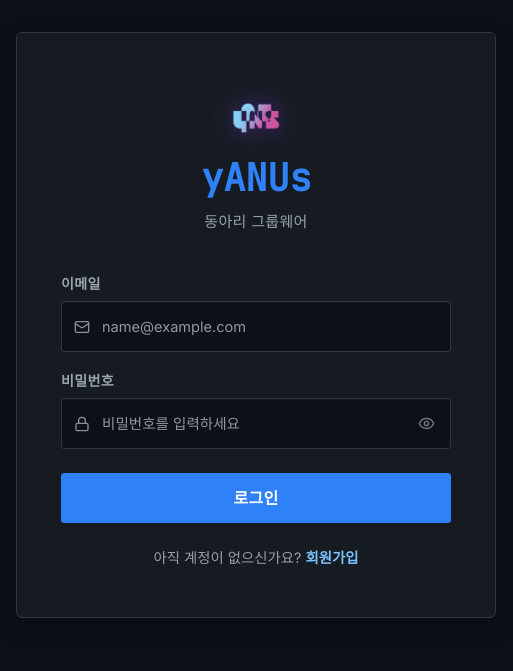
Test: Login 페이지 › 이메일이 비어있으면 유효성 에러를 표시한다
Click the button "로그인".
click(256, 498)  # box [61, 473, 451, 523]
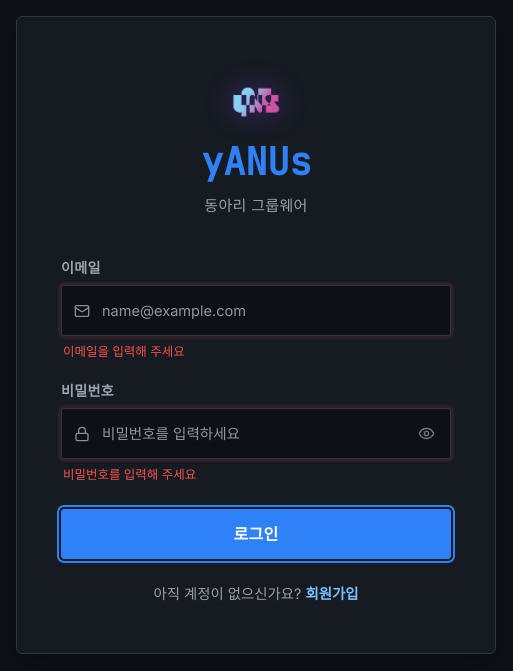
Now the text "이메일을 입력해 주세요" is shown, box [63, 344, 185, 360]
